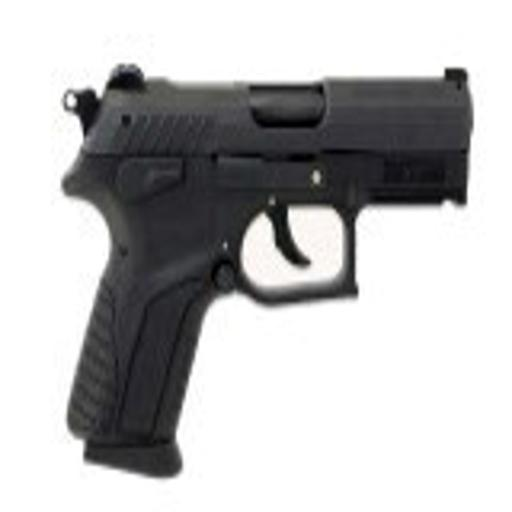Handgun: (53, 58, 472, 476)
